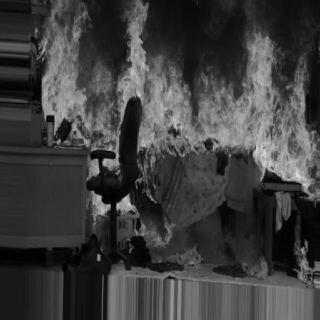Fire: (34, 3, 196, 259), (197, 23, 320, 202), (292, 210, 318, 292)
